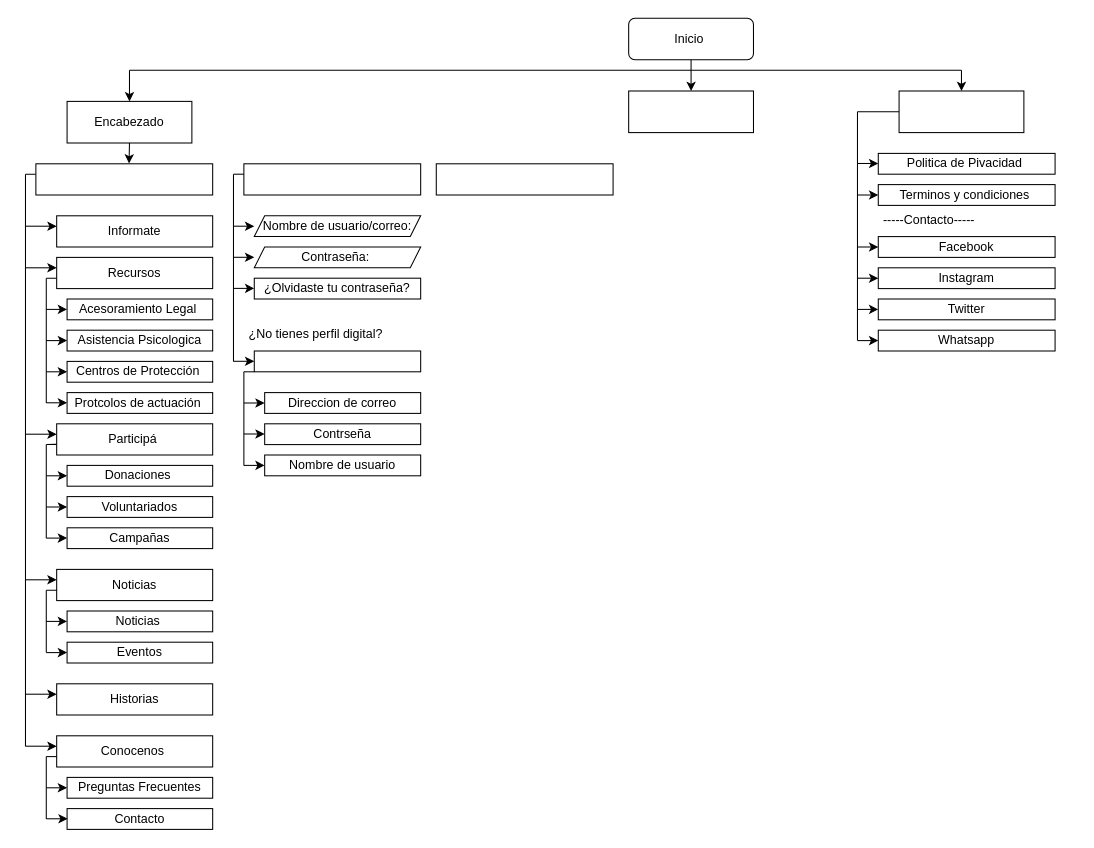
The diagram is 1094 pixels wide and 848 high, and some of its shapes have lost their labels. Here are the shapes that lost their labels. From the top down, the centre of each, then its label:
pixel 690 111: Body
pixel 961 111: Footer
pixel 124 179: Barra de Navegación
pixel 332 179: Ingresa
pixel 524 179: Barra de busqueda
pixel 337 361: Registro
